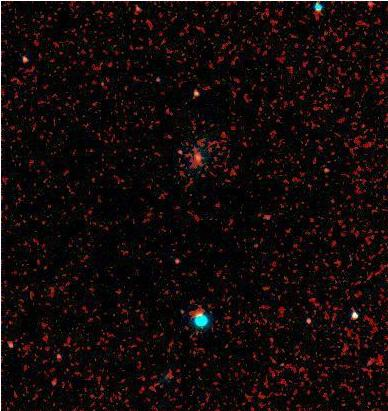star: (184, 139, 214, 169)
